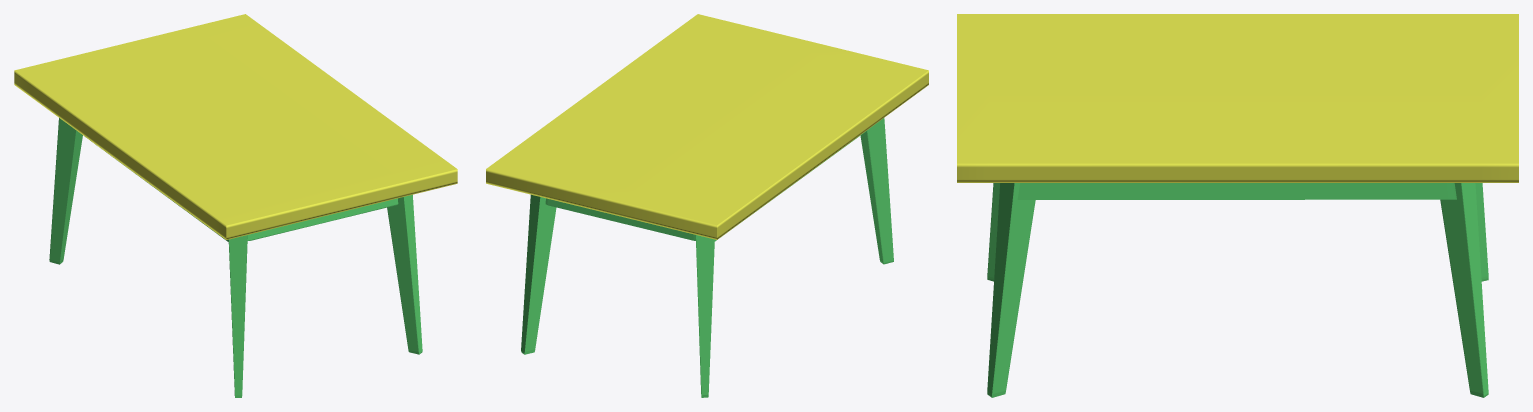
Rendered from table.fbx.
3 renders of one model, left to right at view 1: azimuth 30°, elevation 25°; view 2: azimuth 150°, elevation 25°; view 3: azimuth 270°, elevation 25°, orthographic. The views are drawn at different scales.
Visible parts, largest first — view 1: table; view 2: table; view 3: table.
Boxes of the visible parts, x1,y1,x2,y2 form: table: (14,14,457,397); table: (486,14,928,397); table: (957,14,1518,397).
Bounding box in the file's own units: 123 × 95.74 × 196.
